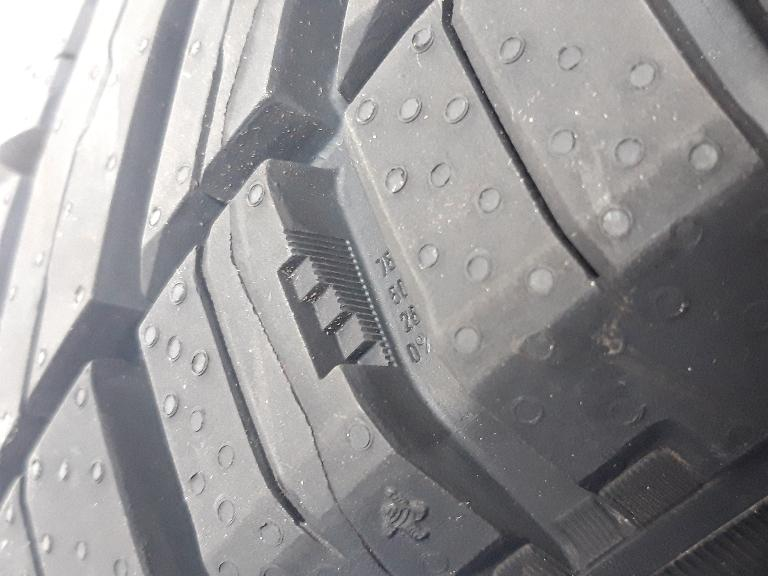temoin:100: (270, 224, 407, 390)
